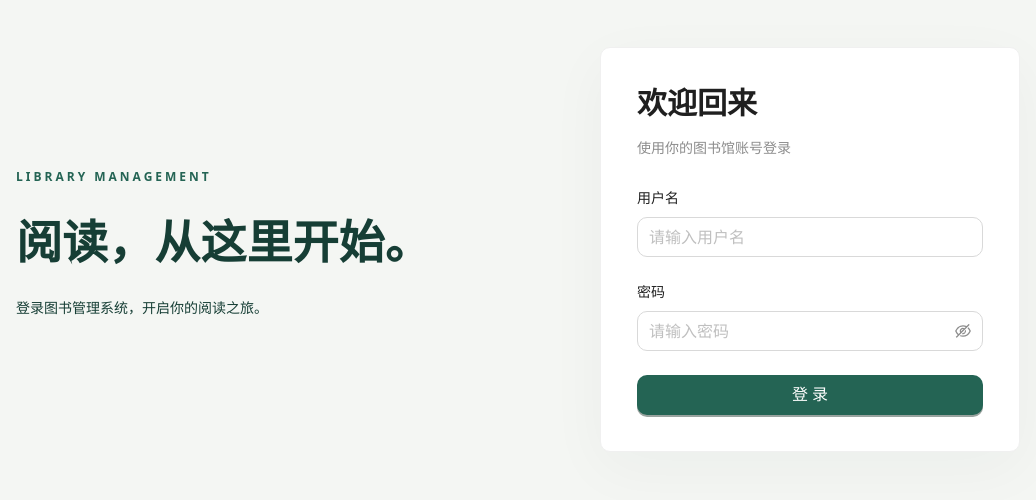
Scenario: 登录与身份恢复 › 422 将后端校验信息映射到登录字段
In the field labelled "用户名": point(810, 236) x1=637 y1=216 x2=983 y2=256, type "reader"
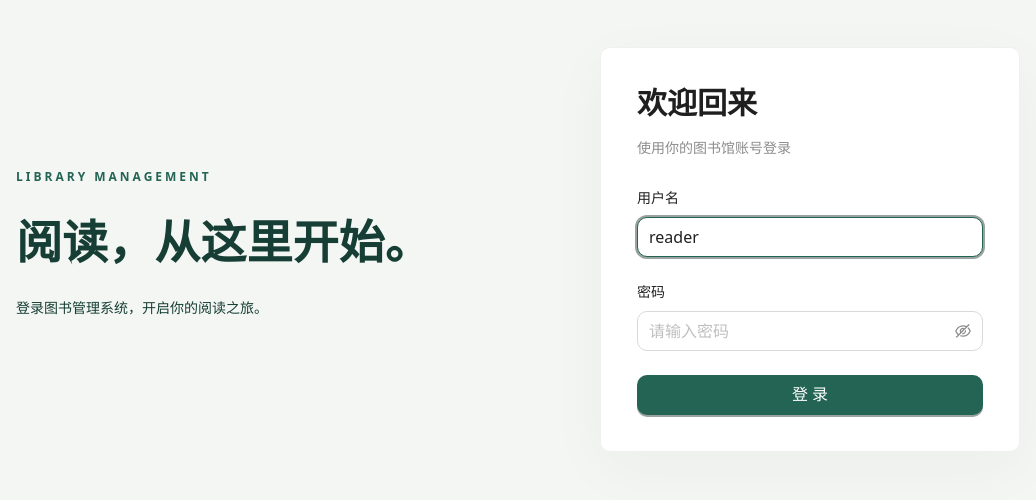
In the password field labelled "密码": point(800, 330) x1=649 y1=318 x2=951 y2=342, type "password123"
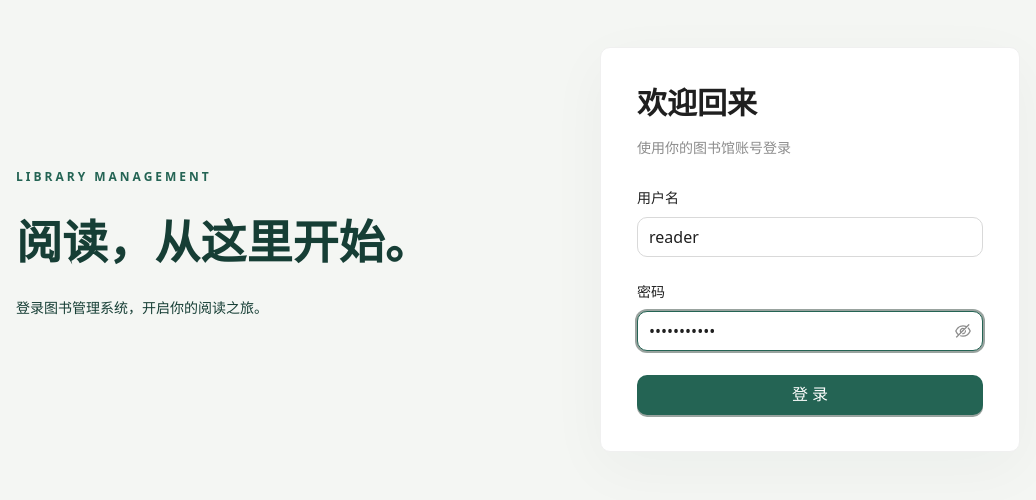
Click the button "登 录": point(810, 394) x1=637 y1=374 x2=983 y2=414
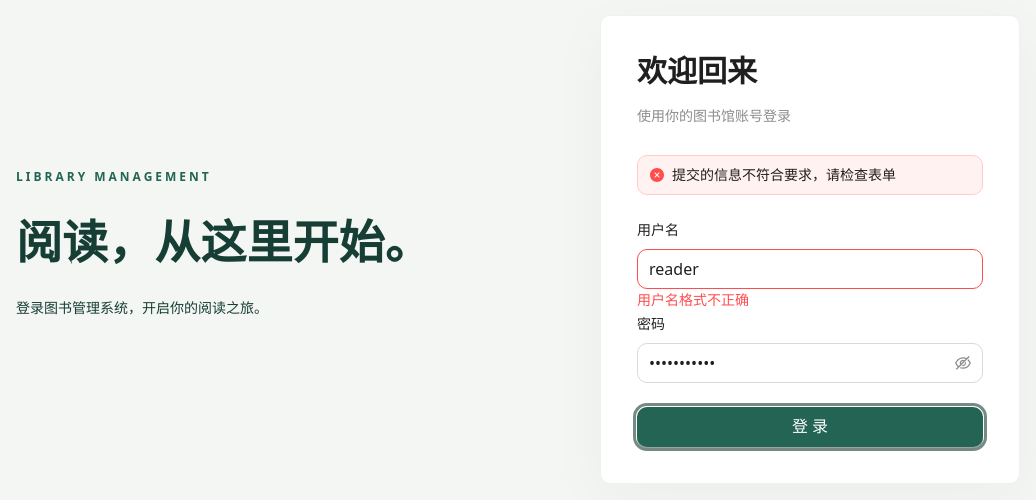
Expected: the text "用户名格式不正确" is shown, x1=637 y1=290 x2=749 y2=308
